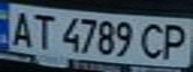4: (57, 14, 81, 53)
7: (78, 16, 100, 55)
8: (93, 18, 118, 56)
9: (112, 19, 139, 58)
A: (6, 7, 36, 48)
C: (136, 20, 169, 60)
P: (157, 20, 193, 61)
T: (27, 11, 57, 51)
